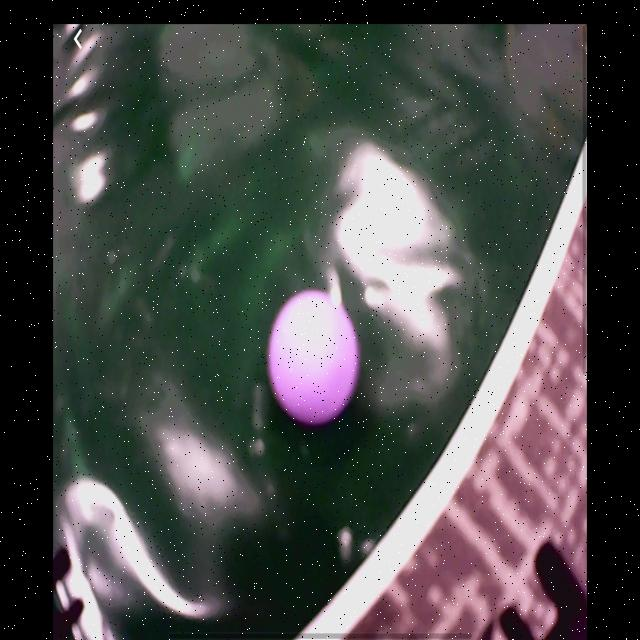ball: (269, 290, 359, 428)
